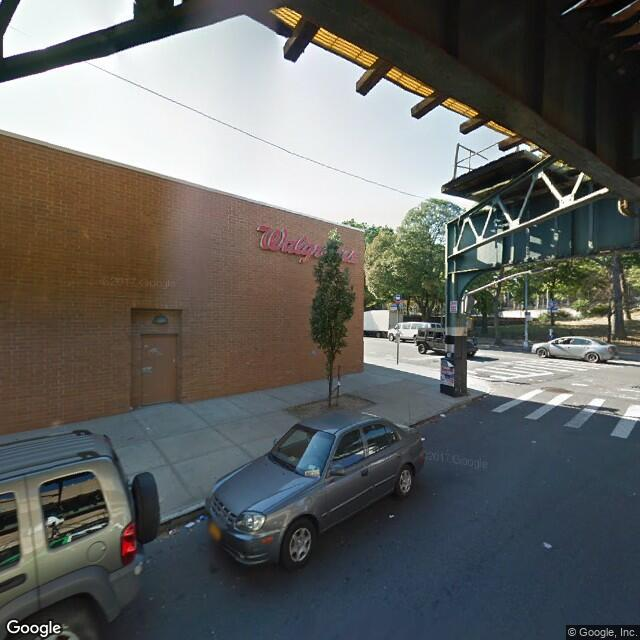litter: (542, 541, 554, 552), (186, 519, 202, 523), (440, 412, 445, 417), (169, 529, 174, 534), (389, 513, 394, 516)
